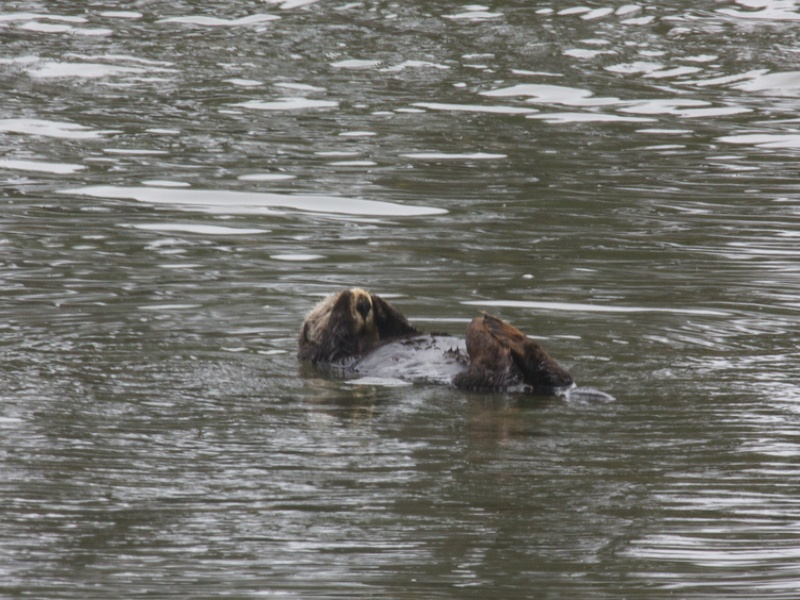minkish: (292, 283, 612, 416)
